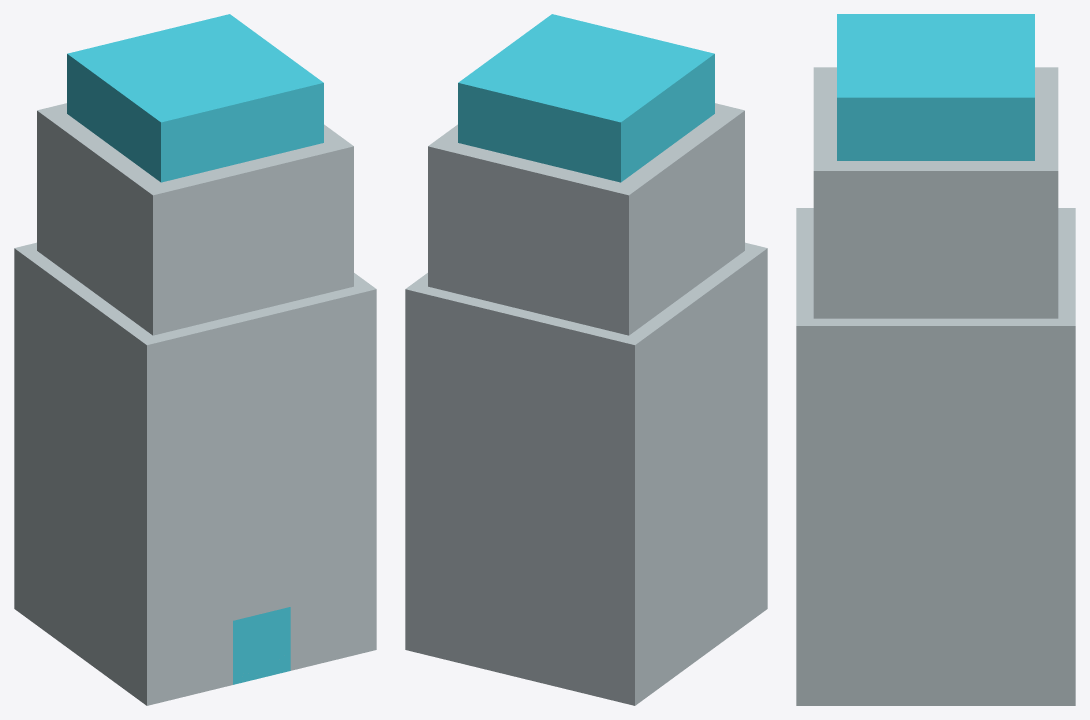
Rendered from building-basic-tall.glb.
3 renders of one model, left to right at view 1: azimuth 30°, elevation 25°; view 2: azimuth 150°, elevation 25°; view 3: azimuth 270°, elevation 25°, orthographic. The views are drawn at different scales.
Visible parts, largest first — view 1: building-basic-tall_tier_1, building-basic-tall_tier_2, building-basic-tall_tier_3, building-basic-tall_entrance_frame; view 2: building-basic-tall_tier_1, building-basic-tall_tier_2, building-basic-tall_tier_3; view 3: building-basic-tall_tier_1, building-basic-tall_tier_2, building-basic-tall_tier_3.
Part boxes in pixels (box(x1,y1,x2,y2)): building-basic-tall_tier_1: box(14, 242, 376, 705); building-basic-tall_tier_2: box(37, 103, 353, 335); building-basic-tall_tier_3: box(67, 14, 323, 182); building-basic-tall_entrance_frame: box(233, 607, 290, 684); building-basic-tall_tier_1: box(405, 242, 767, 705); building-basic-tall_tier_2: box(428, 103, 744, 335); building-basic-tall_tier_3: box(458, 14, 714, 182); building-basic-tall_tier_1: box(796, 208, 1075, 705); building-basic-tall_tier_2: box(813, 67, 1058, 318); building-basic-tall_tier_3: box(837, 14, 1034, 160).
Size of the model in its own units: 12 by 28 by 12.
